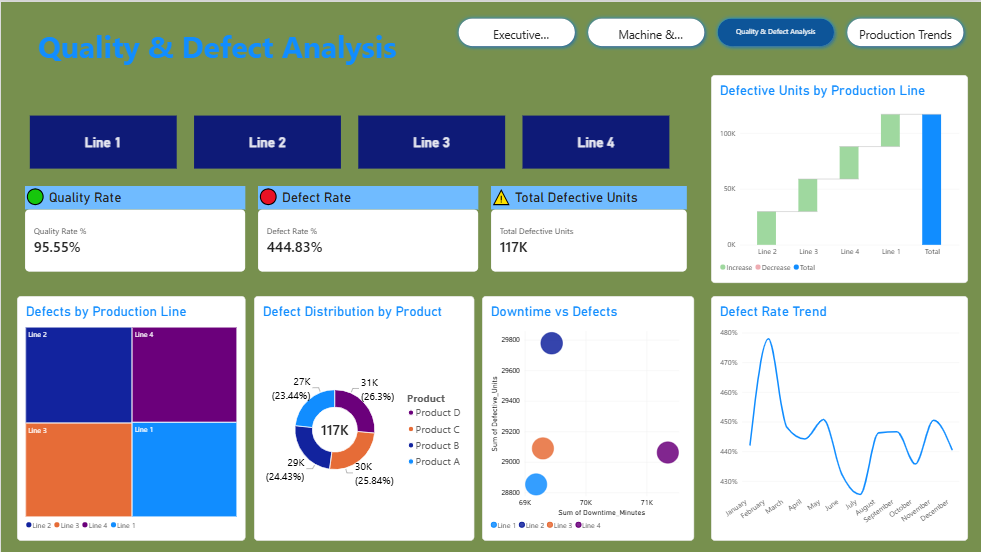

This screenshot's page, from the dashboard's own definition file:
{"tool":"powerbi","page":{"name":"Quality & Defect Analysis","canvas":[1920,1080],"ordinal":2},"visuals":[{"type":"cardVisual","title":"🟢 Quality Rate","fields":{"Data":["manufacturing_production_data.Quality Rate %"]},"box":[48,360,432,168],"z":0},{"type":"cardVisual","title":"🔴 Defect Rate","fields":{"Data":["manufacturing_production_data.Defect Rate %"]},"box":[504,360,432,168],"z":1},{"type":"cardVisual","title":"⚠️ Total Defective Units","fields":{"Data":["manufacturing_production_data.Total Defective Units"]},"box":[960,360,384,168],"z":2},{"type":"treemap","title":"Defects by Production Line","fields":{"Group":["manufacturing_production_data.Production_Line"],"Values":["Sum(manufacturing_production_data.Defective_Units)"]},"box":[32,576,448,480],"z":3},{"type":"donutChart","title":"Defect Distribution by Product","fields":{"Category":["manufacturing_production_data.Product"],"Y":["Sum(manufacturing_production_data.Defective_Units)"]},"box":[496,576,432,480],"z":4},{"type":"scatterChart","title":"Downtime vs Defects","fields":{"X":["Sum(manufacturing_production_data.Downtime_Minutes)"],"Y":["Sum(manufacturing_production_data.Defective_Units)1"],"Series":["manufacturing_production_data.Production_Line"],"Size":["Sum(manufacturing_production_data.Defective_Units)1"]},"box":[944,576,416,480],"z":5},{"type":"lineChart","title":"Defect Rate Trend","fields":{"Category":["manufacturing_production_data.Date.Variation.Date Hierarchy.Month"],"Y":["manufacturing_production_data.Defect Rate %"]},"box":[1392,576,504,480],"z":6},{"type":"waterfallChart","title":"Defective Units by Production Line","fields":{"Category":["manufacturing_production_data.Production_Line"],"Y":["Sum(manufacturing_production_data.Defective_Units)"]},"box":[1392,144,504,408],"z":7},{"type":"advancedSlicerVisual","title":"Production Lines","fields":{"Values":["manufacturing_production_data.Production_Line"]},"box":[24,216,1320,120],"z":8},{"type":"textbox","box":[72,48,1296,144],"z":9},{"type":"pageNavigator","box":[888,24,1008,72],"z":10}]}

Visuals, with their boxes in screenshot pixels (x1, y1, x2, y2), scaled from the page's 1920x1080 canvas onto the 981x552 screenshot:
"🟢 Quality Rate" cardVisual: (left=25, top=184, right=245, bottom=270)
"🔴 Defect Rate" cardVisual: (left=258, top=184, right=478, bottom=270)
"⚠️ Total Defective Units" cardVisual: (left=491, top=184, right=687, bottom=270)
"Defects by Production Line" treemap: (left=16, top=294, right=245, bottom=540)
"Defect Distribution by Product" donutChart: (left=253, top=294, right=474, bottom=540)
"Downtime vs Defects" scatterChart: (left=482, top=294, right=695, bottom=540)
"Defect Rate Trend" lineChart: (left=711, top=294, right=969, bottom=540)
"Defective Units by Production Line" waterfallChart: (left=711, top=74, right=969, bottom=282)
"Production Lines" advancedSlicerVisual: (left=12, top=110, right=687, bottom=172)
textbox: (left=37, top=25, right=699, bottom=98)
pageNavigator: (left=454, top=12, right=969, bottom=49)
